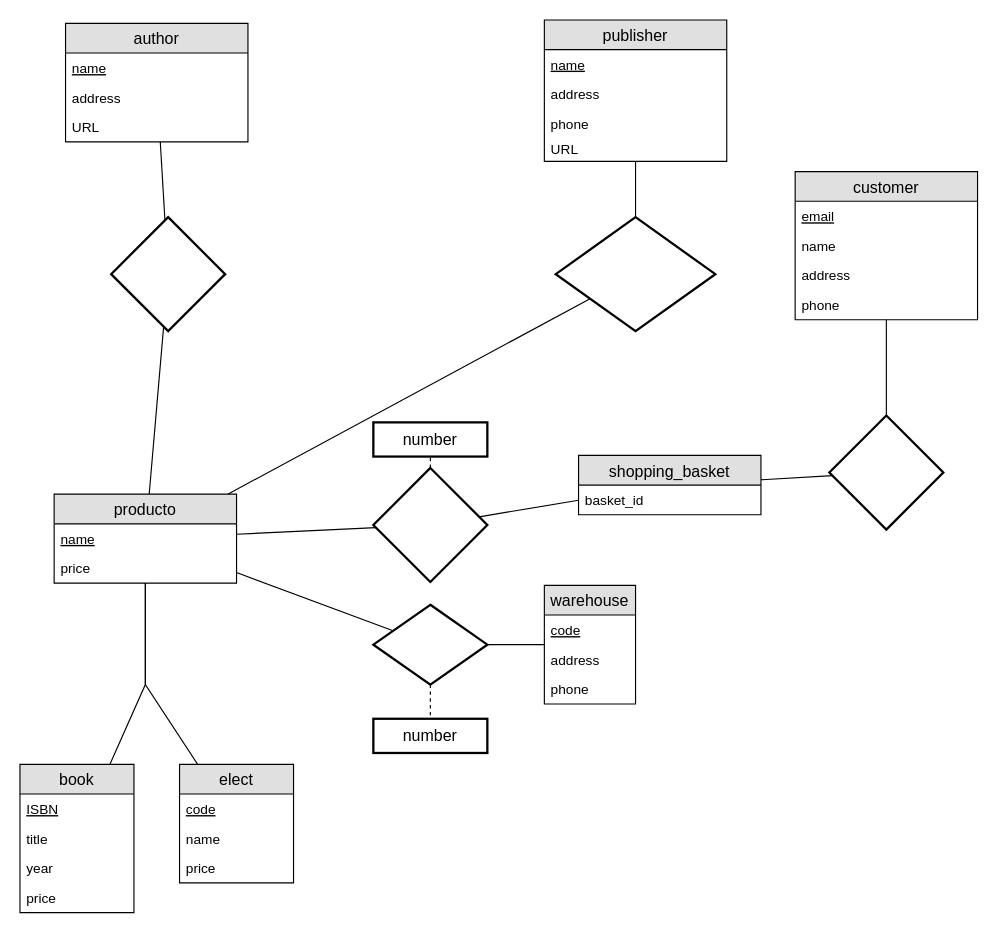
This 998x936 diagram has some shape labels left out. Here are the shapes that lost their labels. From the top down, the centre of each, then its label:
the point at 167,273: written by
the point at 635,273: published by
the point at 886,472: basket_of
the point at 430,524: contains
the point at 430,644: stacks
